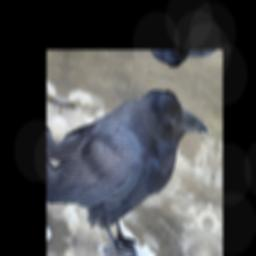Crow: (48, 61, 212, 256)
